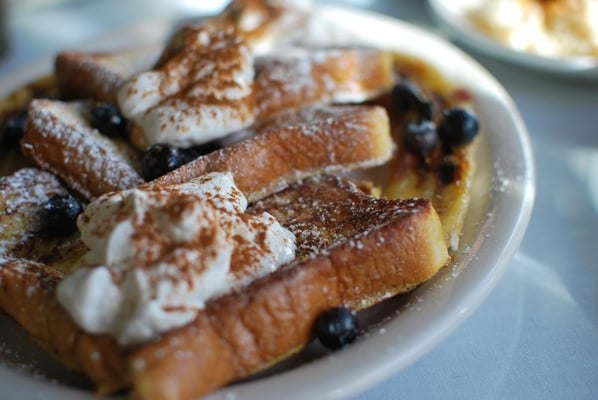sushi: (424, 1, 598, 87)
